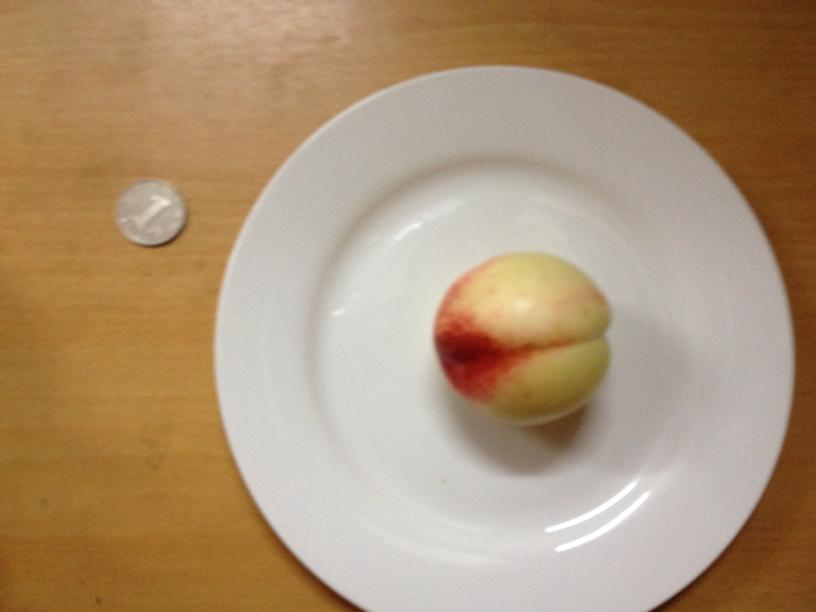coin: (113, 179, 185, 247)
peach: (435, 247, 614, 425)
